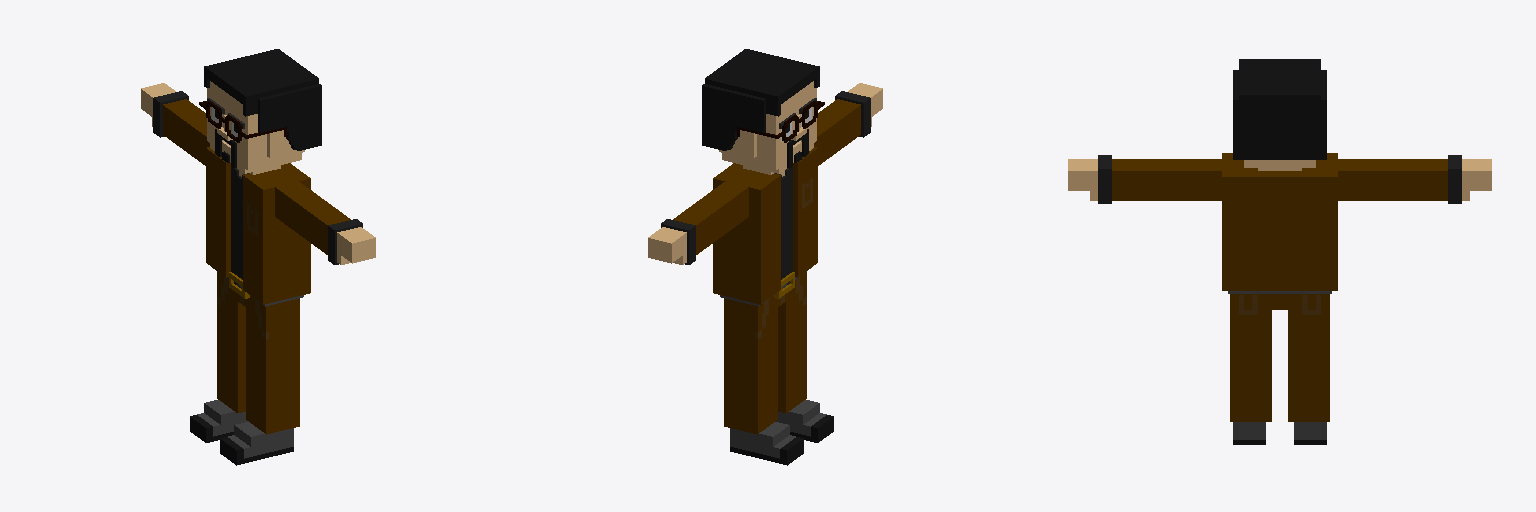
3 views of the same model, side by side, from view 1: azimuth 30°, elevation 25°; view 2: azimuth 150°, elevation 25°; view 3: azimuth 270°, elevation 25° (orthographic).
Visible parts, largest first — view 1: object 1; view 2: object 1; view 3: object 1.
Boxes of the visible parts, x1,y1,x2,y2 form: object 1: [141, 49, 375, 465]; object 1: [648, 49, 882, 465]; object 1: [1068, 59, 1491, 444].
Size of the model in its own units: 3.6 by 14.6 by 15.4.
1 materials, 1 textured.